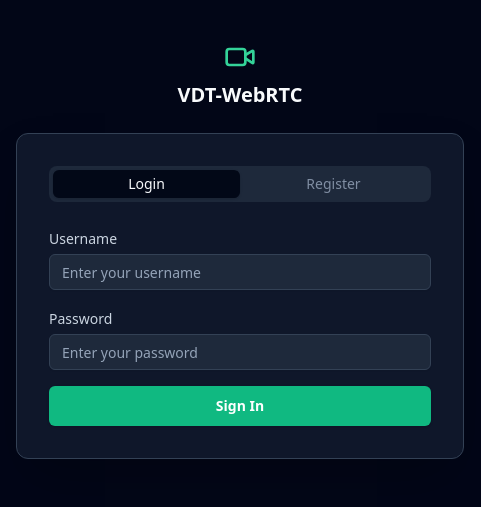
Test: AuthPage › UI-01: 401 from login shows Alert with exact copy
The width and height of the screenshot is (481, 507).
Type "testuser" into the field with placeholder "Enter your username" at (240, 272), box top-left (49, 254), bottom-right (431, 290)
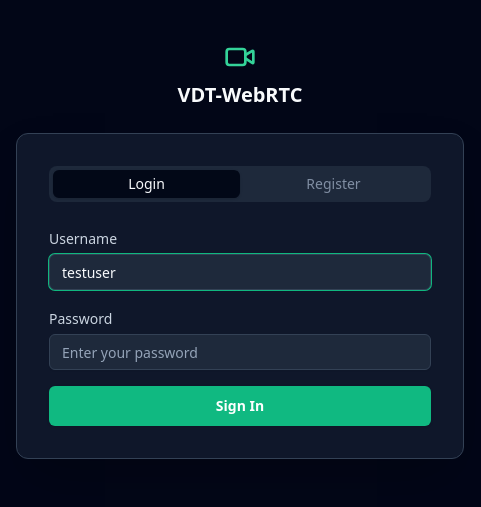
Type "password123" into the password field with placeholder "Enter your password" at (240, 352), box top-left (49, 334), bottom-right (431, 370)
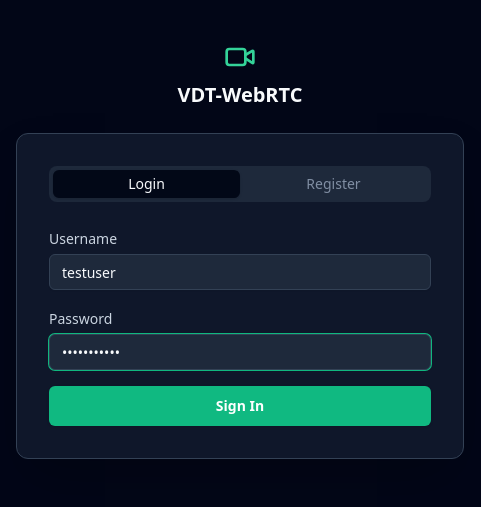
Click the button "Sign In" at (240, 406), box top-left (49, 386), bottom-right (431, 426)
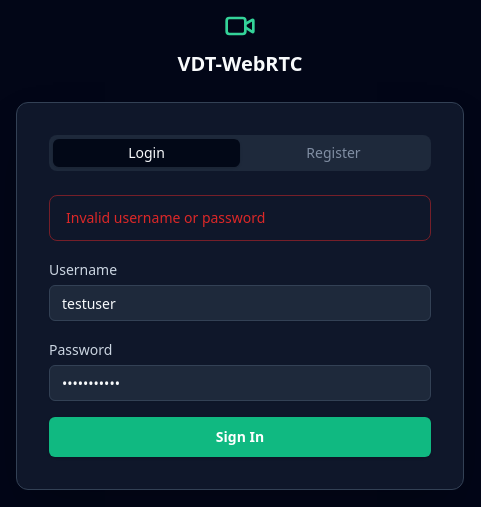
Expected: the message "Invalid username or password" is shown, top-left (49, 195), bottom-right (431, 241)
Expected: the message reads "Invalid username or password", top-left (66, 208), bottom-right (265, 227)
